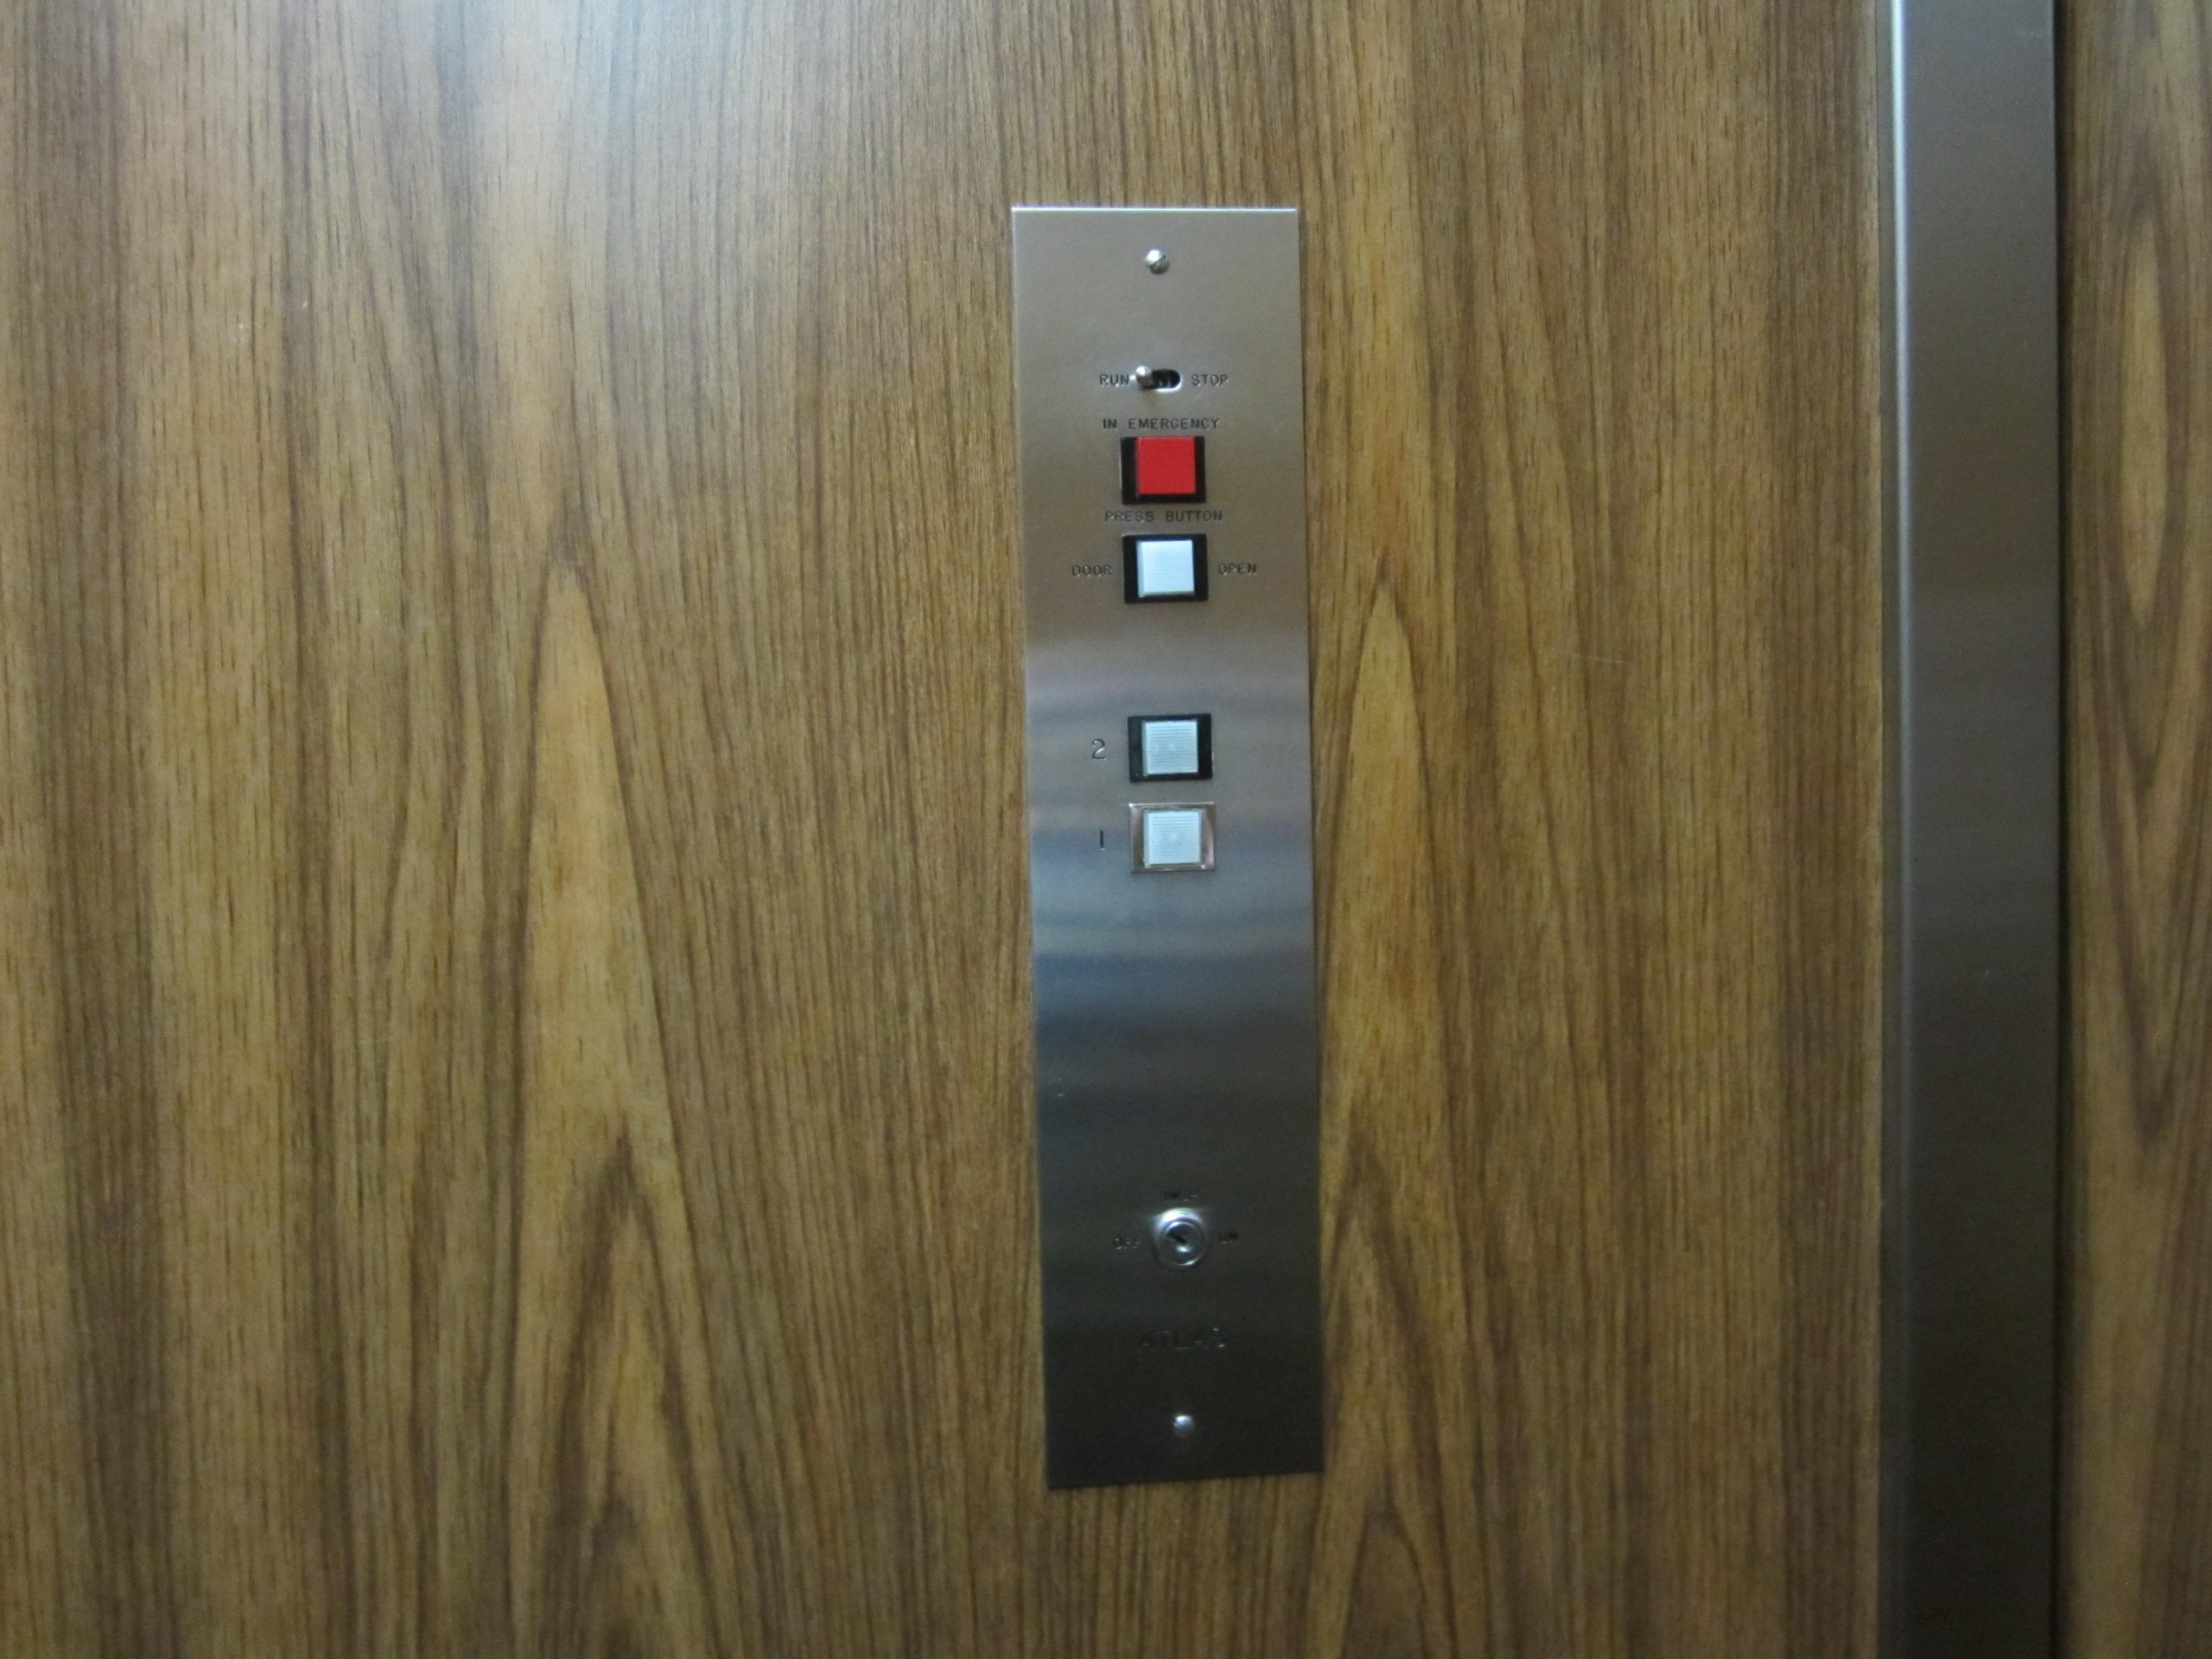empty: (1118, 795, 1221, 880), (1118, 709, 1221, 786), (1118, 430, 1212, 505), (1118, 533, 1211, 603)
keyhole: (1141, 1201, 1217, 1272)
switch: (1130, 357, 1188, 401)
